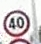limite 40: (2, 9, 31, 35)
